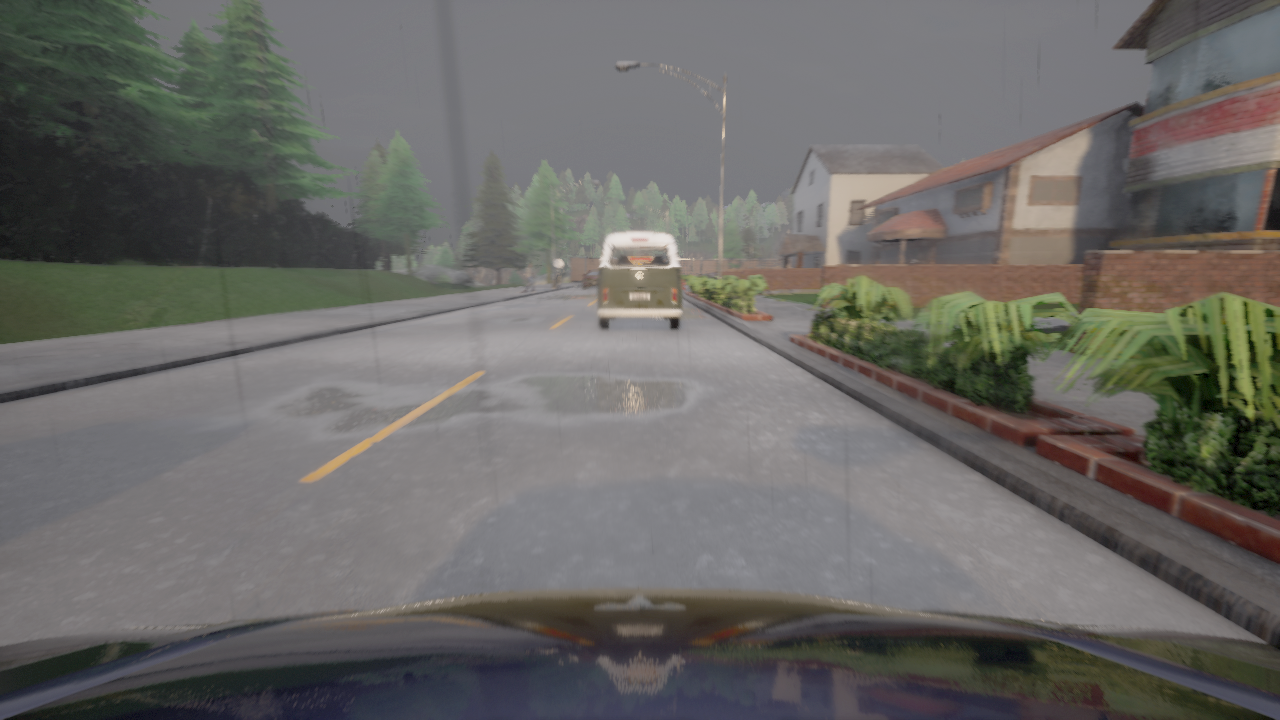cyclist: (0, 588, 1279, 719), (597, 232, 682, 329), (583, 270, 598, 288), (696, 272, 717, 278)
pedestrian: (524, 263, 535, 291)
